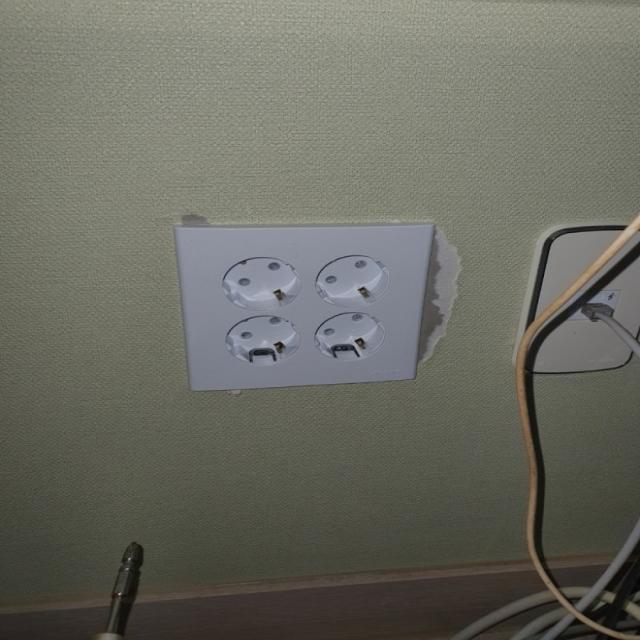typeb: (151, 196, 479, 410)
